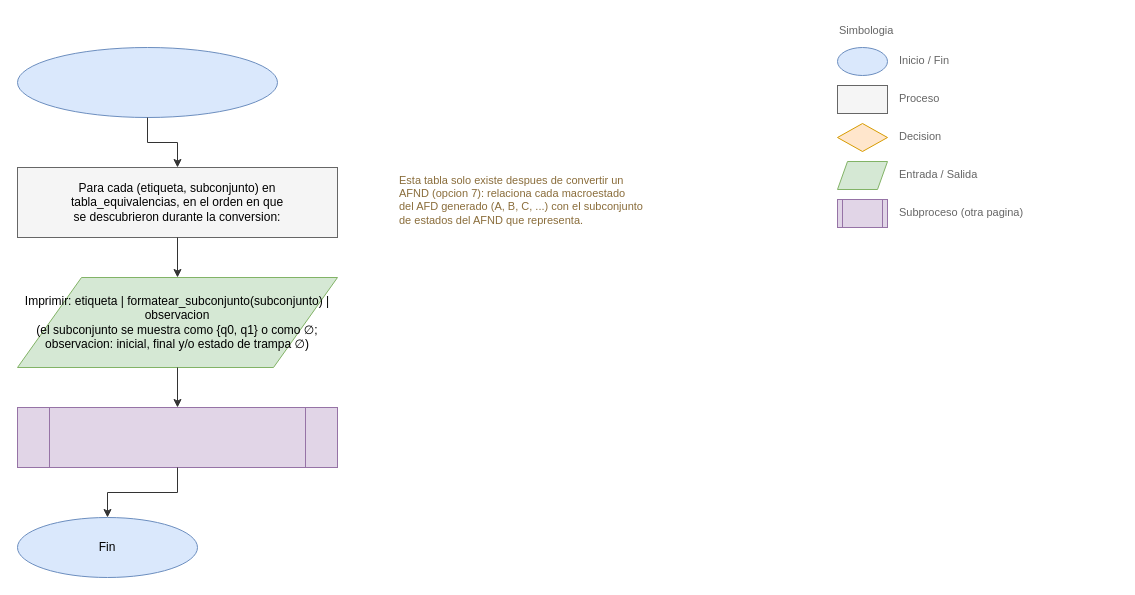
The diagram is 1135 pixels wide and 595 high, and some of its shapes have lost their labels. The centre of each missing label's shape, as x and y in pixels:
"Inicio: Mostrar tabla de equivalencias de macroestados" belongs at (x=147, y=82).
"Subproceso: Regresar a Flujo Principal" belongs at (x=177, y=437).
